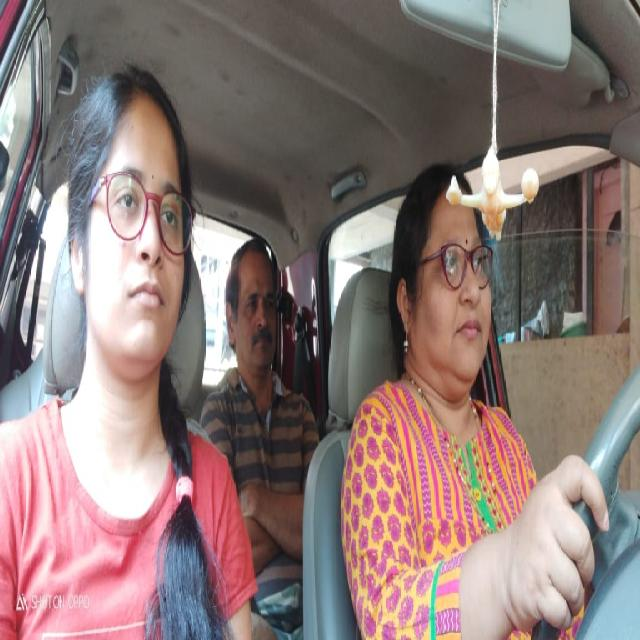person: (62, 56, 196, 381), (390, 165, 501, 393), (222, 234, 282, 383)
